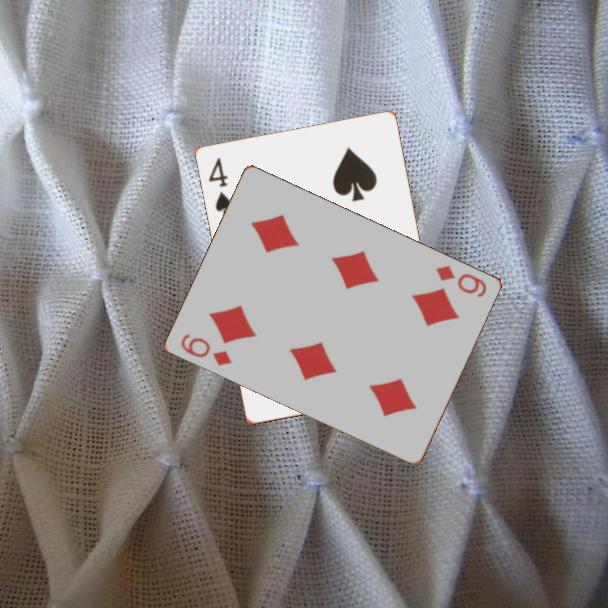d06: (178, 330, 235, 369), (432, 262, 490, 300)
s04: (205, 154, 235, 218)
